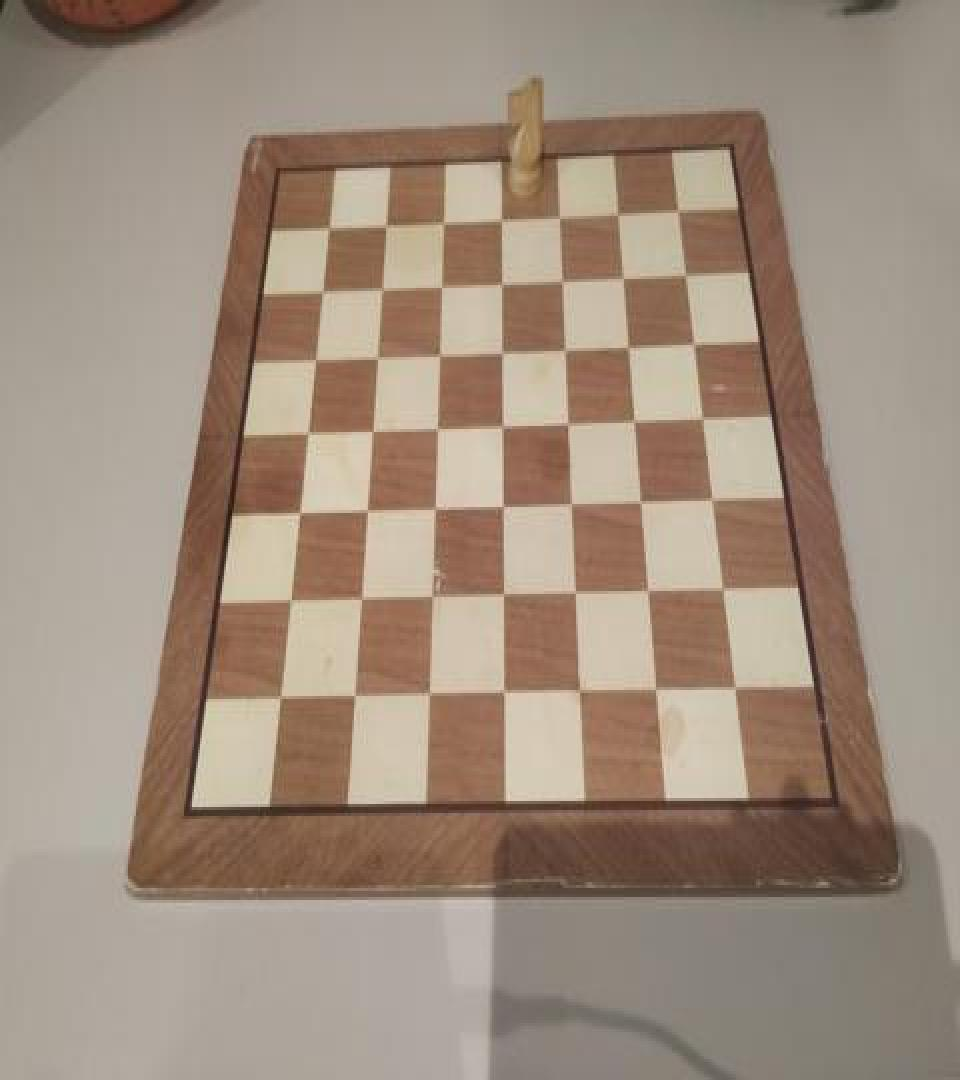xcorner: (608, 199, 628, 230), (269, 686, 289, 716), (344, 684, 364, 714), (495, 681, 515, 711), (571, 680, 591, 710), (648, 678, 668, 708), (725, 676, 745, 706), (279, 588, 299, 618), (422, 584, 442, 614), (494, 582, 514, 612), (640, 579, 660, 609), (713, 576, 733, 606), (288, 498, 308, 528), (356, 496, 376, 526), (425, 495, 445, 525), (494, 492, 514, 522), (563, 490, 583, 520), (632, 489, 652, 519), (702, 486, 722, 516), (297, 417, 317, 447), (362, 416, 382, 446), (427, 412, 447, 442), (493, 411, 513, 441), (559, 410, 579, 440), (626, 406, 646, 436), (692, 405, 712, 435), (304, 344, 324, 374), (367, 340, 387, 370), (429, 339, 449, 369), (492, 336, 512, 366), (556, 334, 576, 364), (619, 332, 639, 362), (683, 330, 703, 360), (311, 274, 331, 304), (371, 272, 391, 302), (431, 270, 451, 300), (492, 267, 512, 297), (553, 266, 573, 296), (614, 262, 634, 292), (675, 261, 695, 291), (318, 212, 338, 242), (375, 208, 395, 238), (433, 207, 453, 237), (491, 204, 511, 234), (550, 202, 570, 232), (667, 196, 687, 226), (419, 683, 439, 712), (351, 587, 371, 616), (567, 581, 587, 610)
